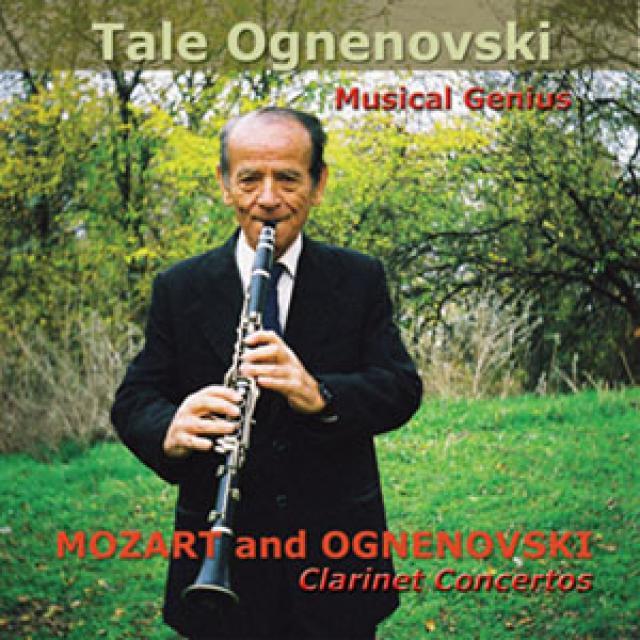clarinet: (178, 217, 284, 612)
